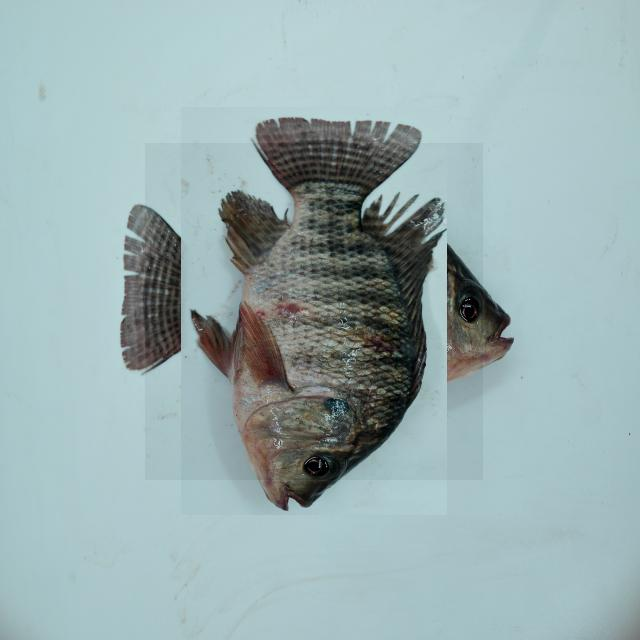Columnaris Disease: (145, 143, 483, 480)
